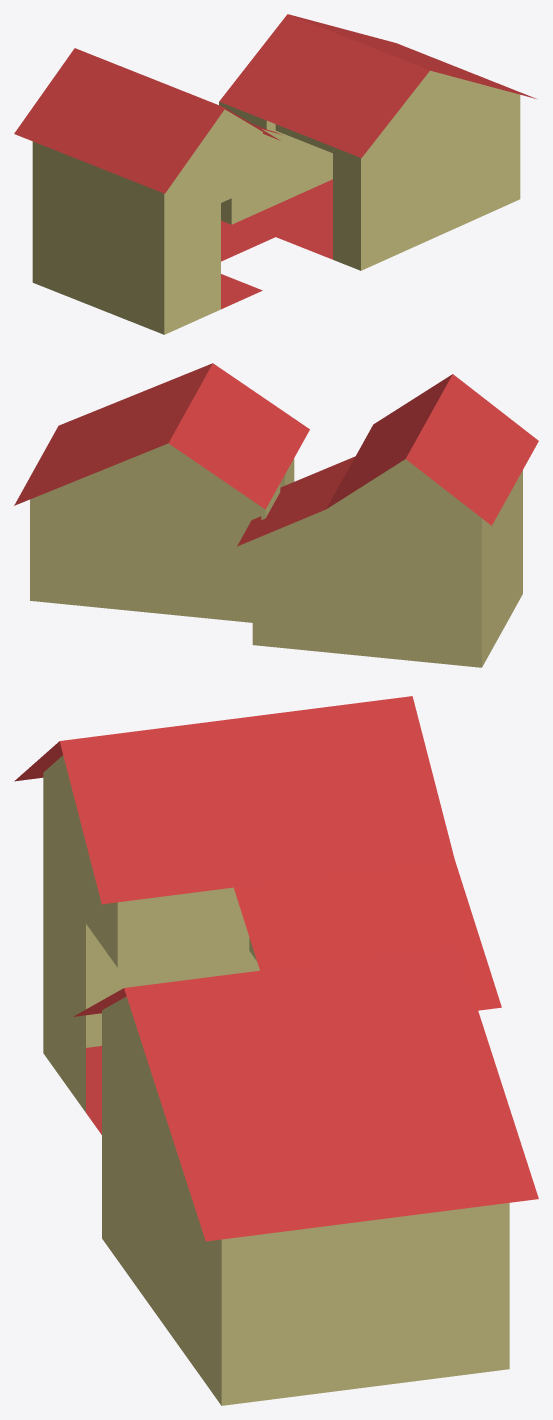
The picture shows the model from 3 angles, top to bottom: view 1: azimuth 30°, elevation 25°; view 2: azimuth 150°, elevation 25°; view 3: azimuth 270°, elevation 25°; orthographic projection. The views are drawn at different scales.
Size of the model in its own units: 31.29 by 16.66 by 12.94.
